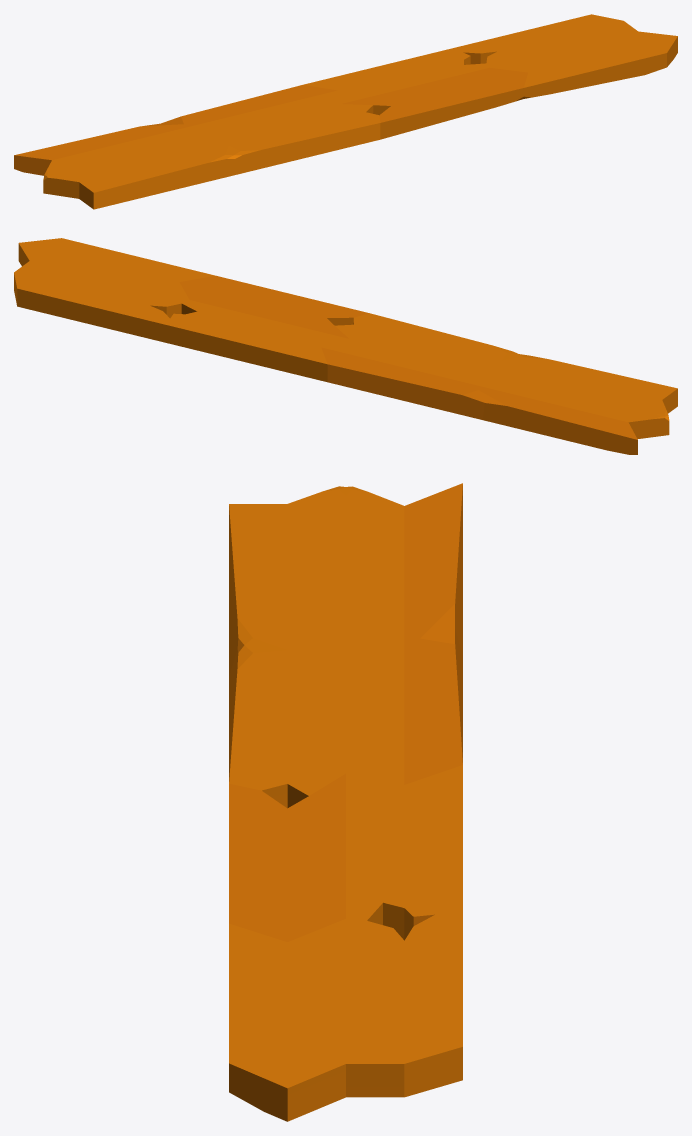
The model's file is Rotten wood_11.fbx.
The picture shows the model from 3 angles, top to bottom: view 1: azimuth 30°, elevation 25°; view 2: azimuth 150°, elevation 25°; view 3: azimuth 270°, elevation 25°; orthographic projection. The views are drawn at different scales.
Parts seen in each view (by area): view 1: Cube.086; view 2: Cube.086; view 3: Cube.086.
Part boxes in pixels (x1,y1,x2,y2): Cube.086: [14, 14, 677, 209]; Cube.086: [14, 238, 677, 454]; Cube.086: [229, 483, 462, 1121].
Size of the model in its own units: 79.98 by 2.07 by 13.07.
